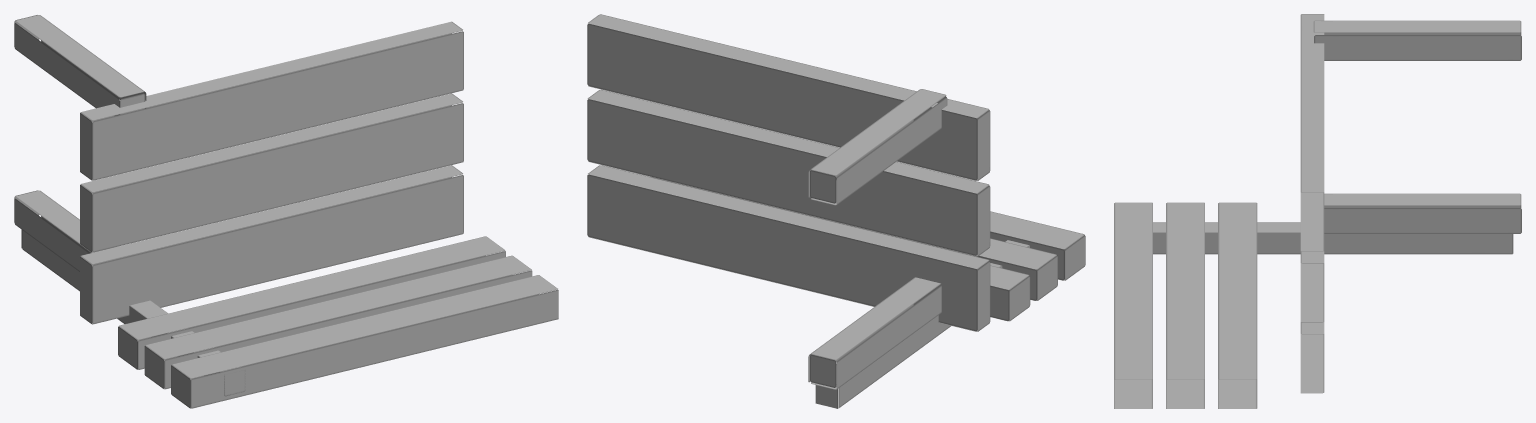
The model's file is pz_benche_seating_outdoor_01_park_0_0.obj.
3 renders of one model, left to right at view 1: azimuth 30°, elevation 25°; view 2: azimuth 150°, elevation 25°; view 3: azimuth 270°, elevation 25°, orthographic. The views are drawn at different scales.
Bounding box in the file's own units: 0.975 × 0.575 × 0.9403.
Materials: 1 (1 with a texture image).
